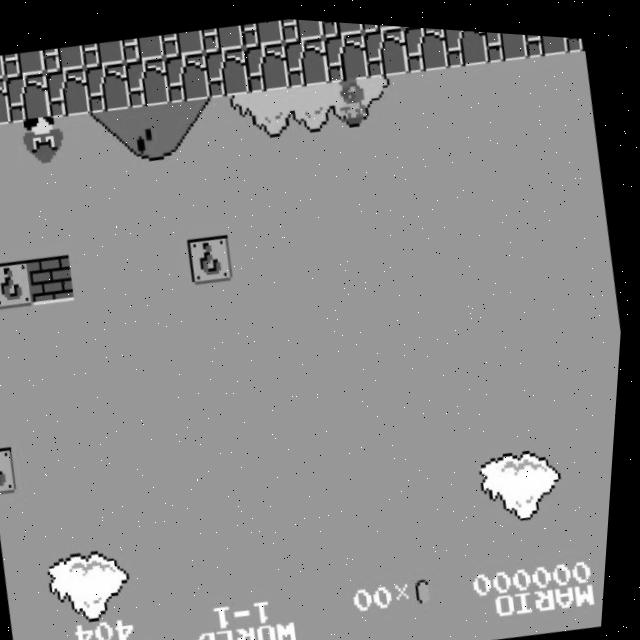1- brick_block: (29, 251, 81, 307), (0, 264, 0, 314)
11- little_mario: (327, 67, 382, 126)
13- mystery_block: (188, 229, 240, 285), (0, 257, 41, 312), (0, 446, 26, 496)
17- undestructible_block: (321, 25, 373, 81), (281, 31, 333, 87), (241, 36, 293, 92), (123, 53, 175, 109), (43, 64, 95, 120), (202, 42, 254, 97), (162, 48, 214, 103), (83, 59, 135, 114), (4, 70, 55, 126), (361, 20, 412, 75), (400, 21, 451, 70), (440, 23, 491, 64), (479, 25, 530, 59), (41, 42, 88, 75), (81, 36, 127, 69), (239, 14, 286, 46), (200, 20, 247, 52), (160, 26, 207, 58), (1, 48, 48, 80), (121, 31, 167, 63), (519, 27, 569, 53), (279, 15, 325, 41), (318, 17, 364, 35), (0, 77, 15, 131), (359, 19, 404, 30), (560, 29, 586, 46), (0, 55, 8, 86)
8- goomba: (19, 111, 74, 170)
